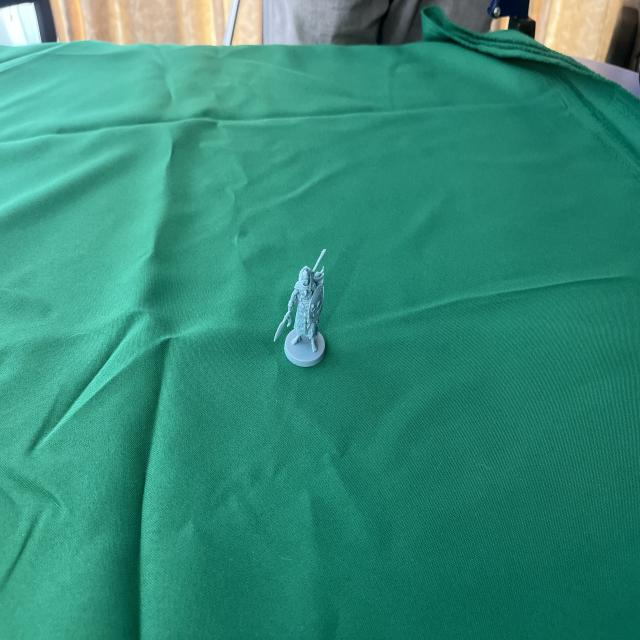isis_follower: (274, 244, 328, 370)
